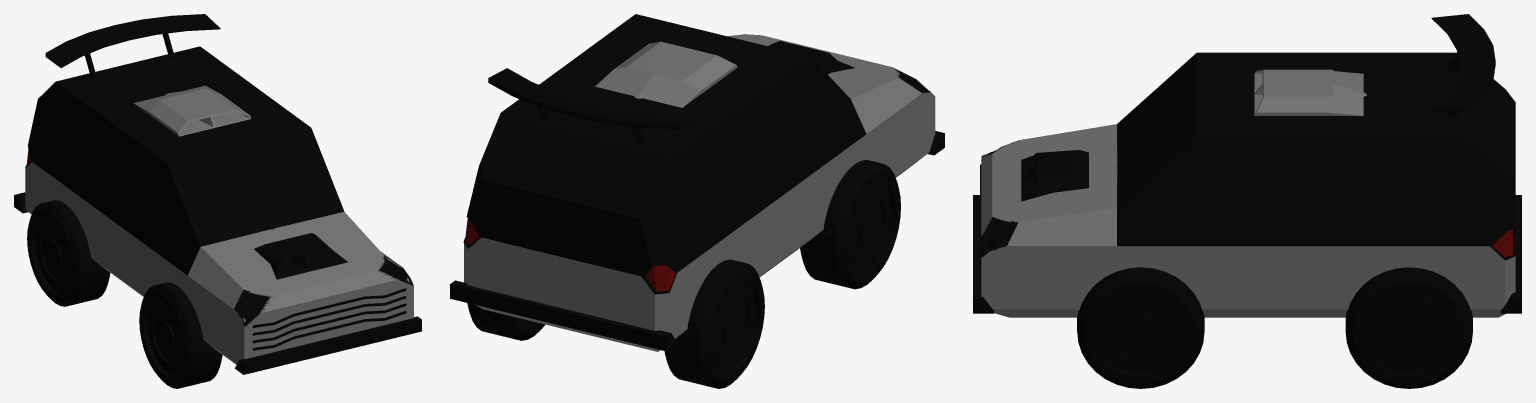
File: JohnsonTruck.fbx
The picture shows the model from 3 angles, left to right: view 1: azimuth 30°, elevation 25°; view 2: azimuth 150°, elevation 25°; view 3: azimuth 270°, elevation 25°; orthographic projection. The views are drawn at different scales.
Parts seen in each view (by area): view 1: Cube, wheelFrontRight, wheelBackRight, Cube.002, Cube.001; view 2: Cube, wheelFrontRight, wheelBackRight, Cube.001, Cube.002, wheelBackLeft; view 3: Cube, wheelBackLeft, wheelFrontLeft, Cube.001, Cube.002.
Part boxes in pixels (bbox=[...]): Cube: bbox=[14, 46, 421, 374]; wheelFrontRight: bbox=[139, 282, 222, 388]; wheelBackRight: bbox=[27, 200, 110, 306]; Cube.002: bbox=[45, 14, 220, 78]; Cube.001: bbox=[133, 85, 251, 136]; Cube: bbox=[450, 14, 944, 351]; wheelFrontRight: bbox=[800, 160, 900, 289]; wheelBackRight: bbox=[664, 259, 764, 388]; Cube.001: bbox=[595, 41, 737, 107]; Cube.002: bbox=[488, 68, 700, 143]; wheelBackLeft: bbox=[467, 303, 544, 340]; Cube: bbox=[973, 52, 1521, 317]; wheelBackLeft: bbox=[1345, 267, 1472, 388]; wheelFrontLeft: bbox=[1077, 267, 1204, 388]; Cube.001: bbox=[1254, 69, 1366, 115]; Cube.002: bbox=[1431, 14, 1495, 118].
Size of the model in its own units: 553 by 604 by 1101.
1 material, 1 textured.
